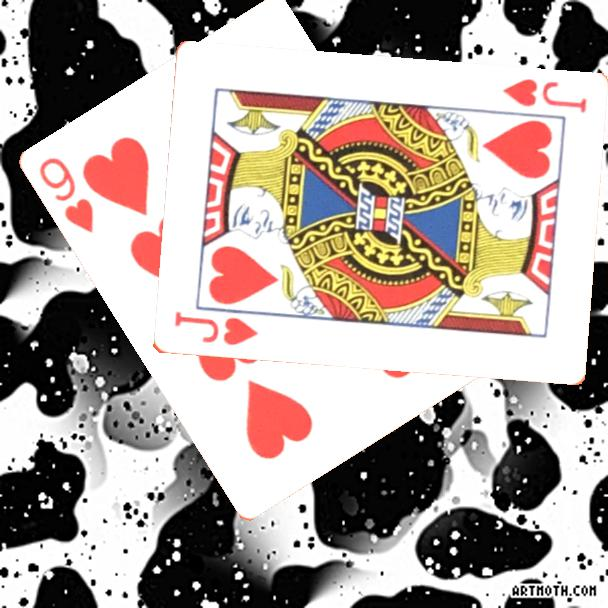h09: (36, 154, 98, 237)
h11: (170, 308, 260, 349), (499, 76, 589, 116)
